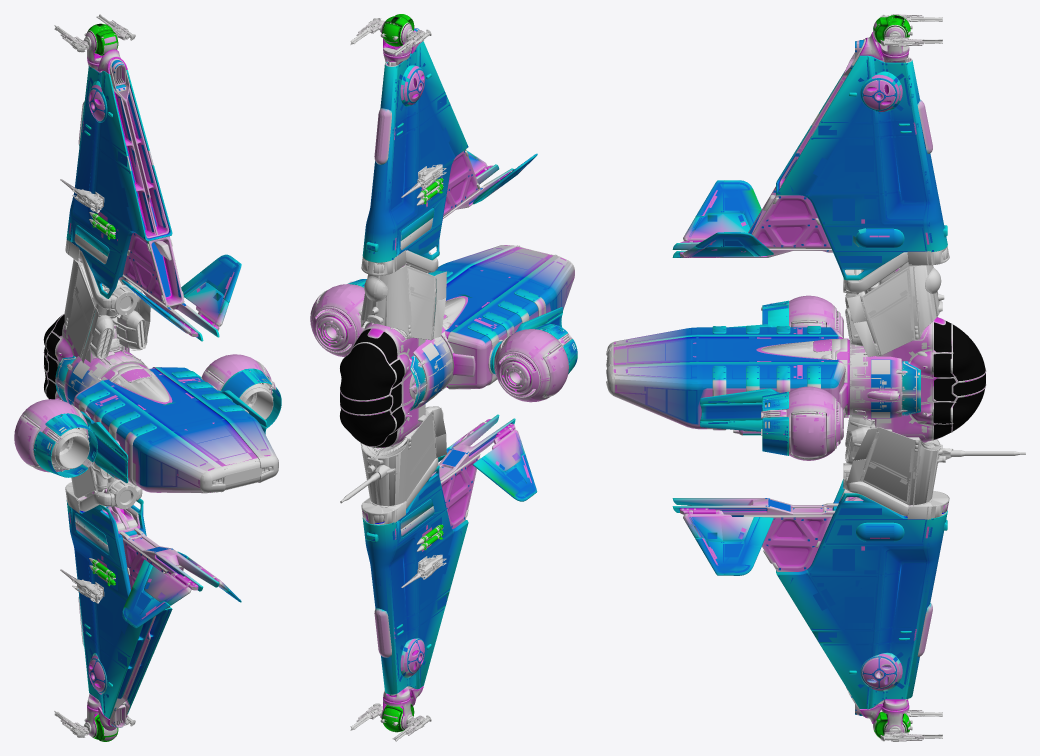
3 renders of one model, left to right at view 1: azimuth 30°, elevation 25°; view 2: azimuth 150°, elevation 25°; view 3: azimuth 270°, elevation 25°, orthographic.
Parts seen in each view (by area): view 1: Body, Cockpit_Interior_Glass_window; view 2: Body, Cockpit_Interior_Glass_window; view 3: Body, Cockpit_Interior_Glass_window.
Part boxes in pixels (bbox=[...]): Body: bbox=[14, 14, 281, 741]; Cockpit_Interior_Glass_window: bbox=[43, 314, 64, 399]; Body: bbox=[310, 14, 577, 741]; Cockpit_Interior_Glass_window: bbox=[340, 329, 404, 447]; Body: bbox=[606, 14, 1025, 741]; Cockpit_Interior_Glass_window: bbox=[932, 321, 985, 439].
Bounding box in the file's own units: 33.22 × 90.84 × 47.8.
